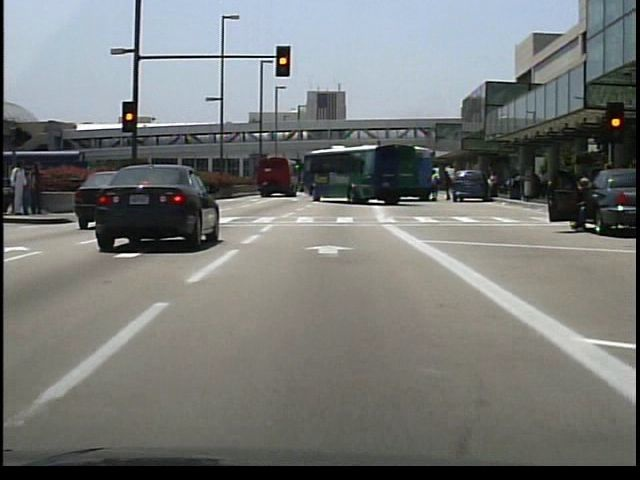person: (567, 172, 599, 233), (11, 160, 32, 214), (29, 161, 47, 220), (425, 167, 440, 202), (439, 167, 453, 204), (484, 169, 496, 200)
